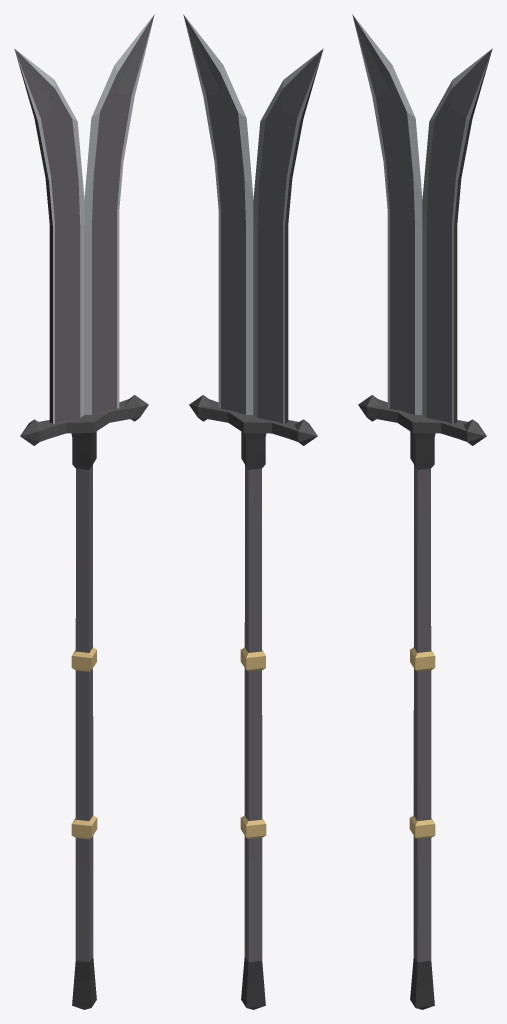
File: Spear_7.fbx
3 renders of one model, left to right at view 1: azimuth 30°, elevation 25°; view 2: azimuth 150°, elevation 25°; view 3: azimuth 330°, elevation 25°, orthographic.
Visible parts, largest first — view 1: polySurface486; view 2: polySurface486; view 3: polySurface486.
Part boxes in pixels (bbox=[...]): polySurface486: bbox=[14, 14, 154, 1009]; polySurface486: bbox=[183, 14, 323, 1009]; polySurface486: bbox=[352, 14, 492, 1009].
Size of the model in its own units: 95.65 by 637 by 22.99.
